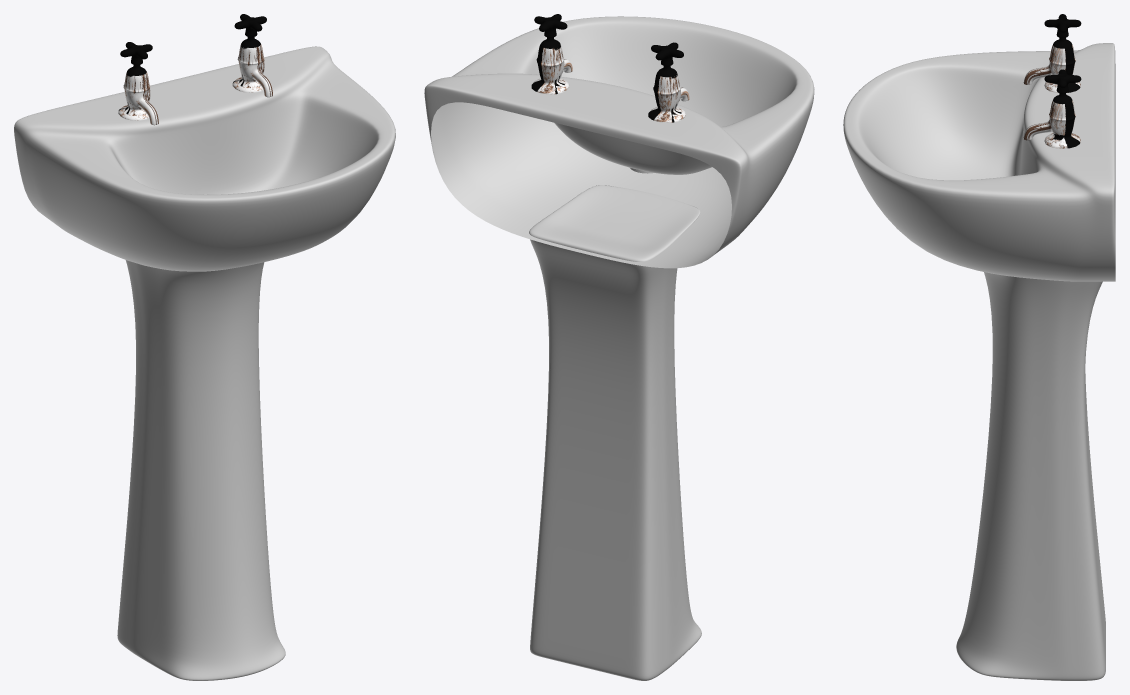
File: Sink.fbx
3 views of the same model, side by side, from view 1: azimuth 30°, elevation 25°; view 2: azimuth 150°, elevation 25°; view 3: azimuth 270°, elevation 25° (orthographic). The views are drawn at different scales.
Visible parts, largest first — view 1: Cube.025, Cube.024, Cube.023; view 2: Cube.025, Cube.023, Cube.024; view 3: Cube.025, Cube.023, Cube.024.
Part boxes in pixels (left/top/right/bottom): Cube.025: left=14, top=46, right=395, bottom=680; Cube.024: left=118, top=42, right=158, bottom=125; Cube.023: left=232, top=14, right=272, bottom=97; Cube.025: left=424, top=16, right=814, bottom=680; Cube.023: left=531, top=14, right=572, bottom=94; Cube.024: left=648, top=42, right=689, bottom=122; Cube.025: left=843, top=43, right=1115, bottom=680; Cube.023: left=1023, top=69, right=1081, bottom=148; Cube.024: left=1023, top=14, right=1081, bottom=92.
Bounding box in the file's own units: 215 × 404 × 164.
Materials: 4 (1 with a texture image).
